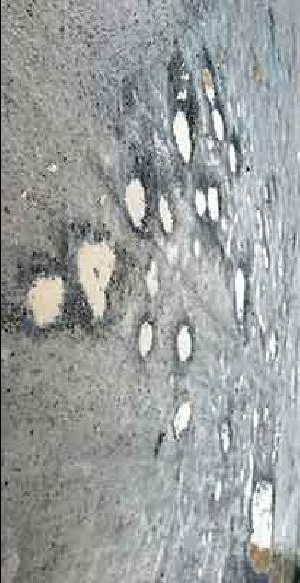pothole: (77, 235, 121, 327), (248, 478, 278, 574), (25, 269, 68, 332), (122, 169, 151, 232), (172, 107, 197, 164), (233, 263, 251, 328), (200, 49, 220, 107), (156, 191, 177, 237), (171, 399, 194, 437), (176, 322, 196, 363), (137, 319, 154, 361), (144, 257, 161, 298), (227, 136, 244, 175), (211, 108, 228, 142), (209, 182, 223, 223), (220, 419, 234, 454), (194, 184, 208, 217)
